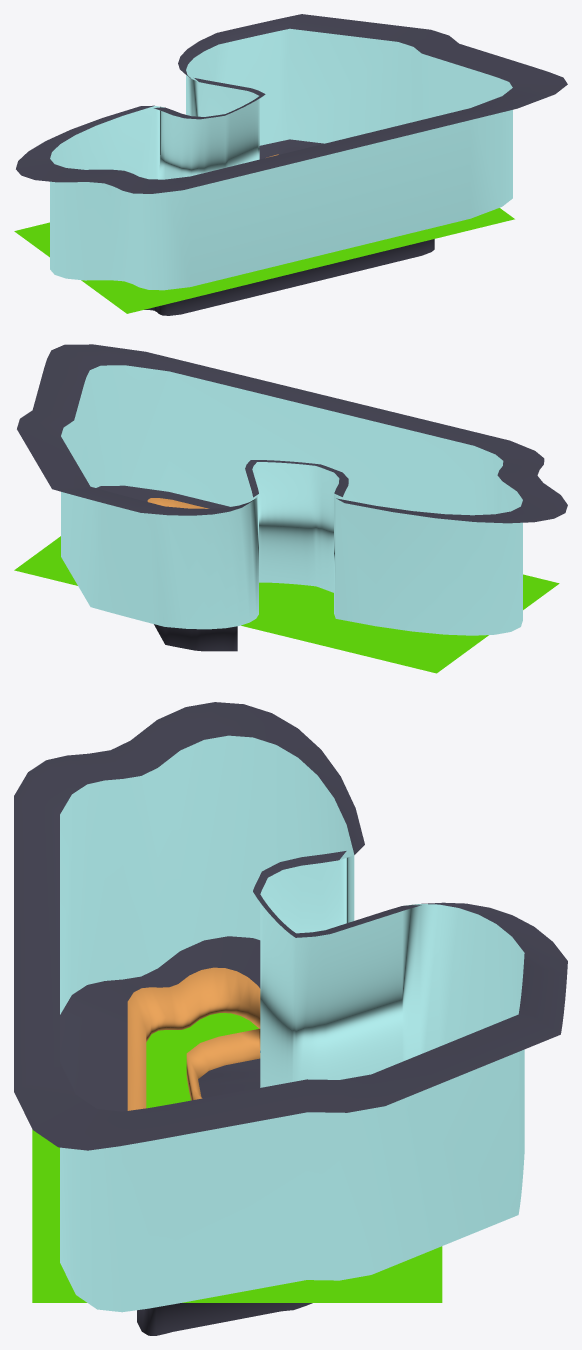
File: Pista para P2.fbx
3 views of the same model, one above another, from view 1: azimuth 30°, elevation 25°; view 2: azimuth 150°, elevation 25°; view 3: azimuth 270°, elevation 25° (orthographic). The views are drawn at different scales.
Visible parts, largest first — view 1: Cube; view 2: Cube; view 3: Cube.
Boxes of the visible parts, x1,y1,x2,y2 form: Cube: [14, 14, 567, 315]; Cube: [14, 344, 567, 673]; Cube: [14, 702, 567, 1335].
Size of the model in its own units: 22918 by 6775 by 11961.
